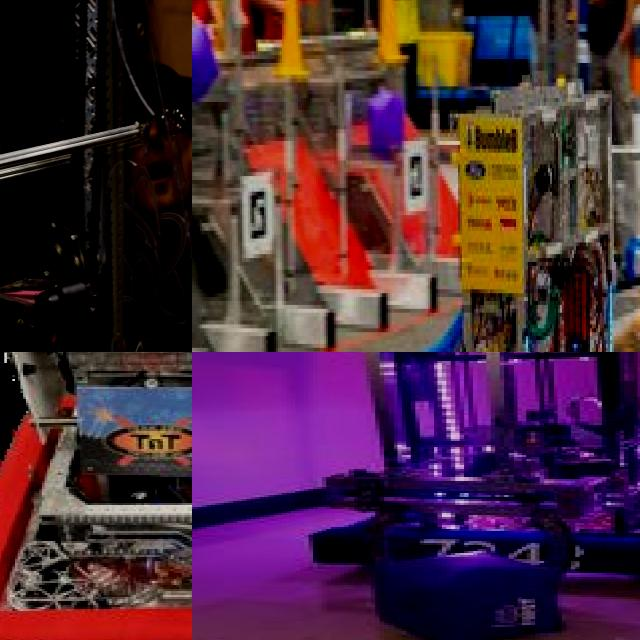FRC-Robots: (207, 352, 640, 598), (349, 64, 640, 352), (0, 352, 192, 640), (0, 0, 149, 341)
